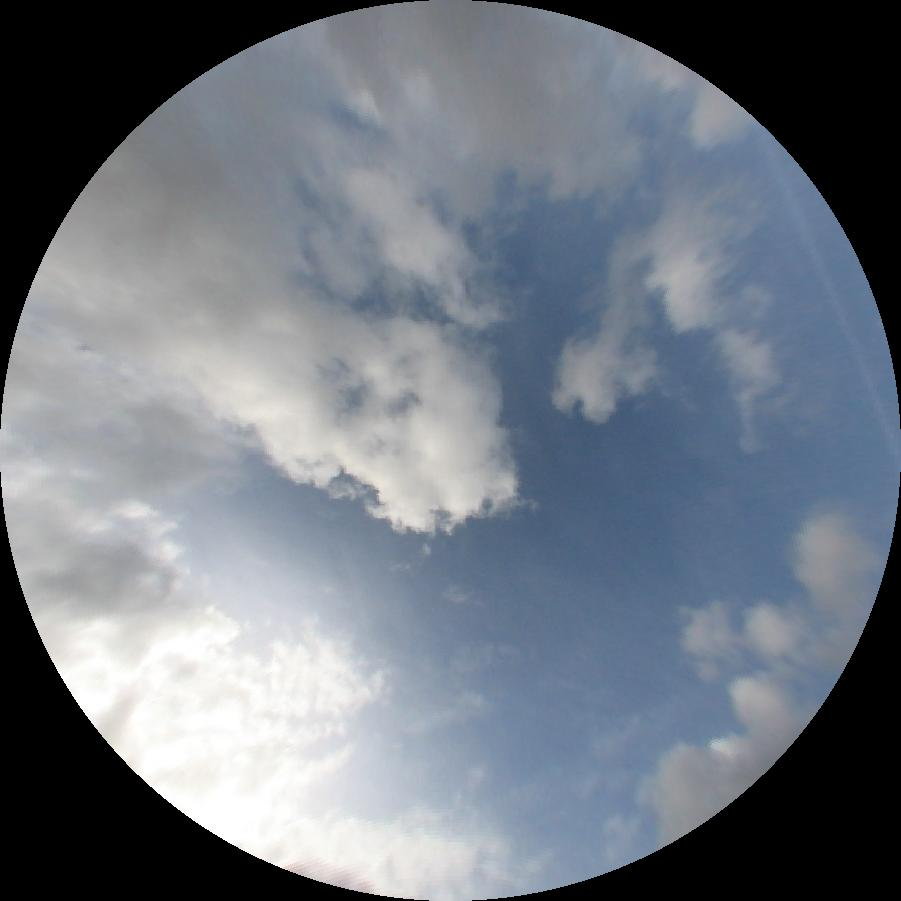contrail veryold: (753, 136, 897, 476)
